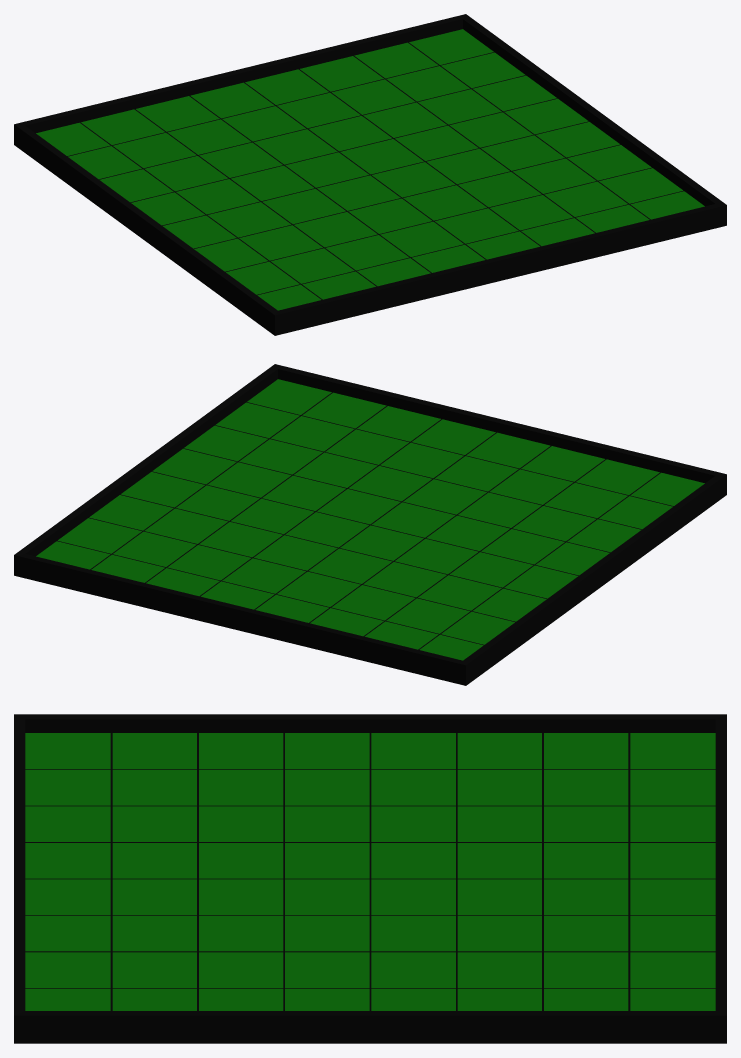
File: Board.fbx
The picture shows the model from 3 angles, top to bottom: view 1: azimuth 30°, elevation 25°; view 2: azimuth 150°, elevation 25°; view 3: azimuth 270°, elevation 25°; orthographic projection. The views are drawn at different scales.
Visible parts, largest first — view 1: 平面; view 2: 平面; view 3: 平面.
Part boxes in pixels (x1=…): 平面: x1=14, y1=14, x2=726, y2=335; 平面: x1=14, y1=364, x2=726, y2=685; 平面: x1=14, y1=714, x2=726, y2=1043.
Bounding box in the file's own units: 847 × 36.98 × 847.
